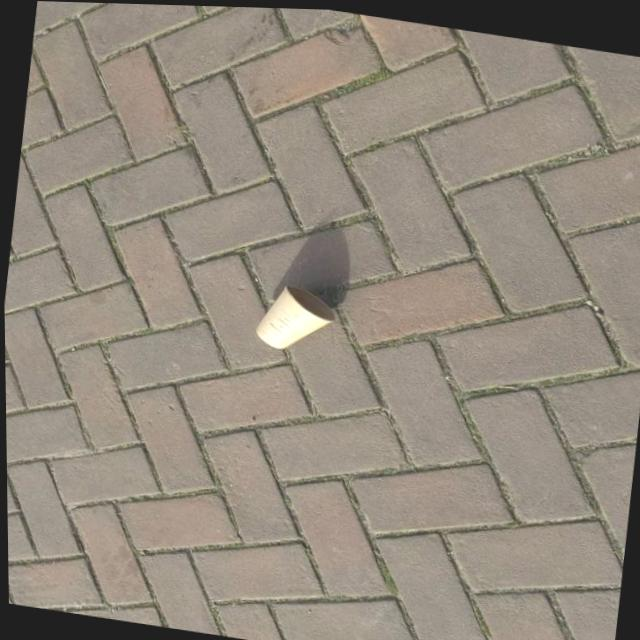Cup: (224, 274, 339, 361)
